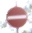No entry: (6, 6, 27, 28)
